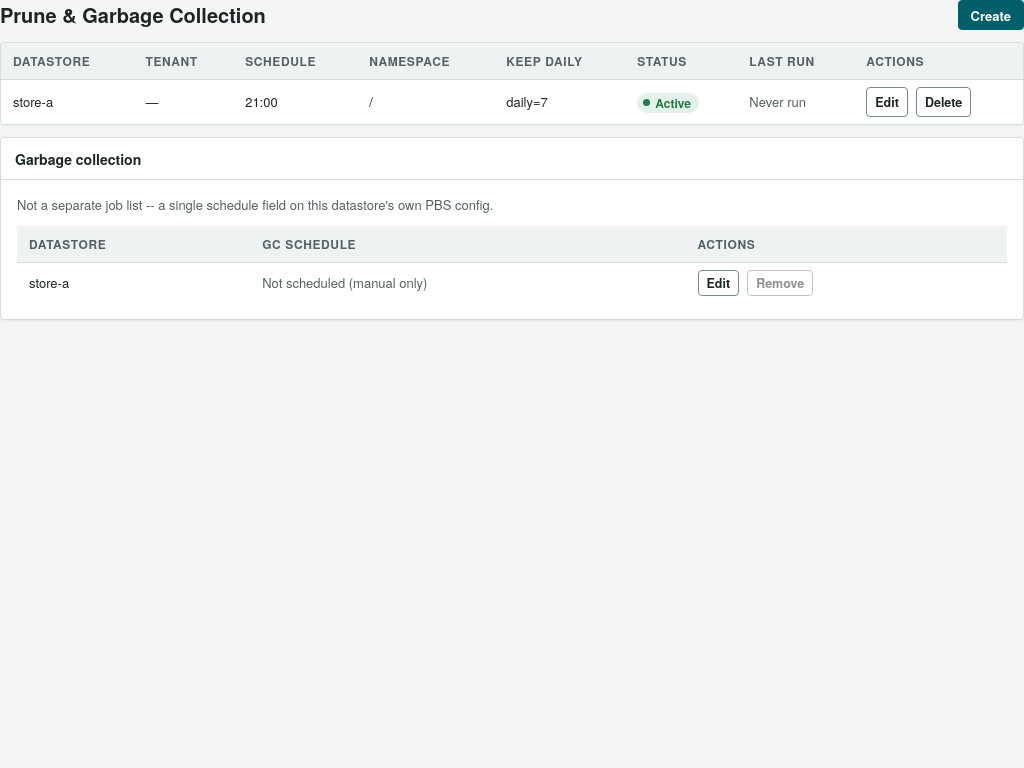
Test: JobsPruneGcPage › shows PBS's error inline when deleting a prune job fails
expect the text "21:00" is shown: met, box [233, 80, 357, 124]
Click the button "Delete" at (944, 102), box [916, 87, 971, 117]
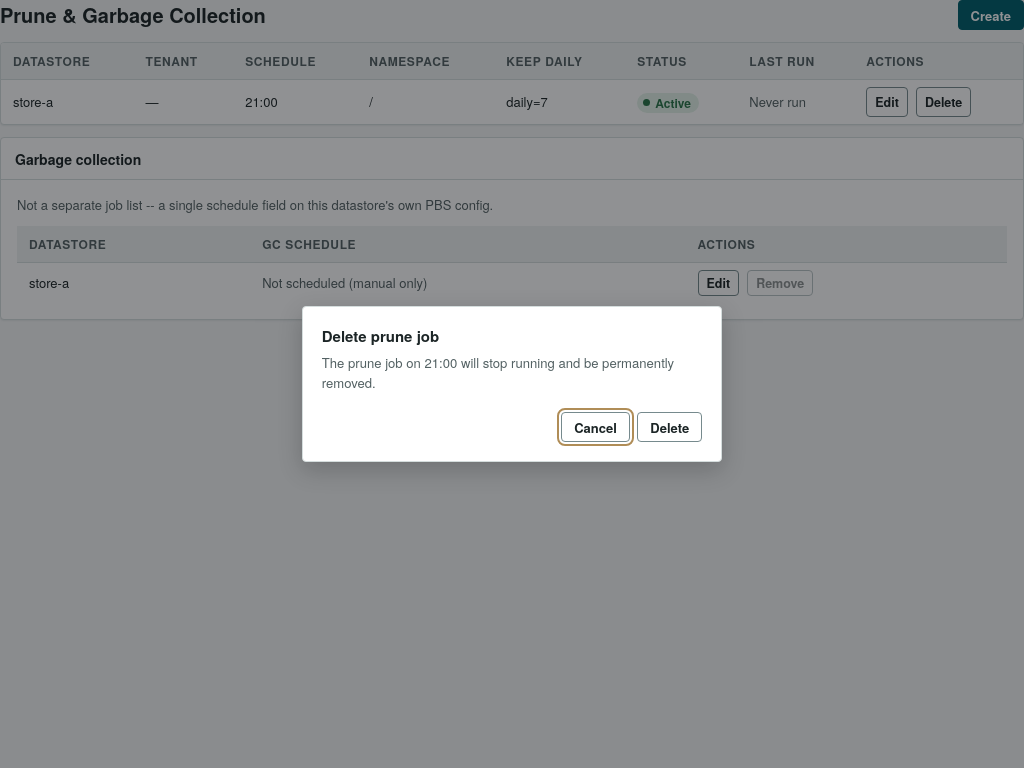
Click the button "Delete" at (670, 427), box [637, 412, 702, 442]
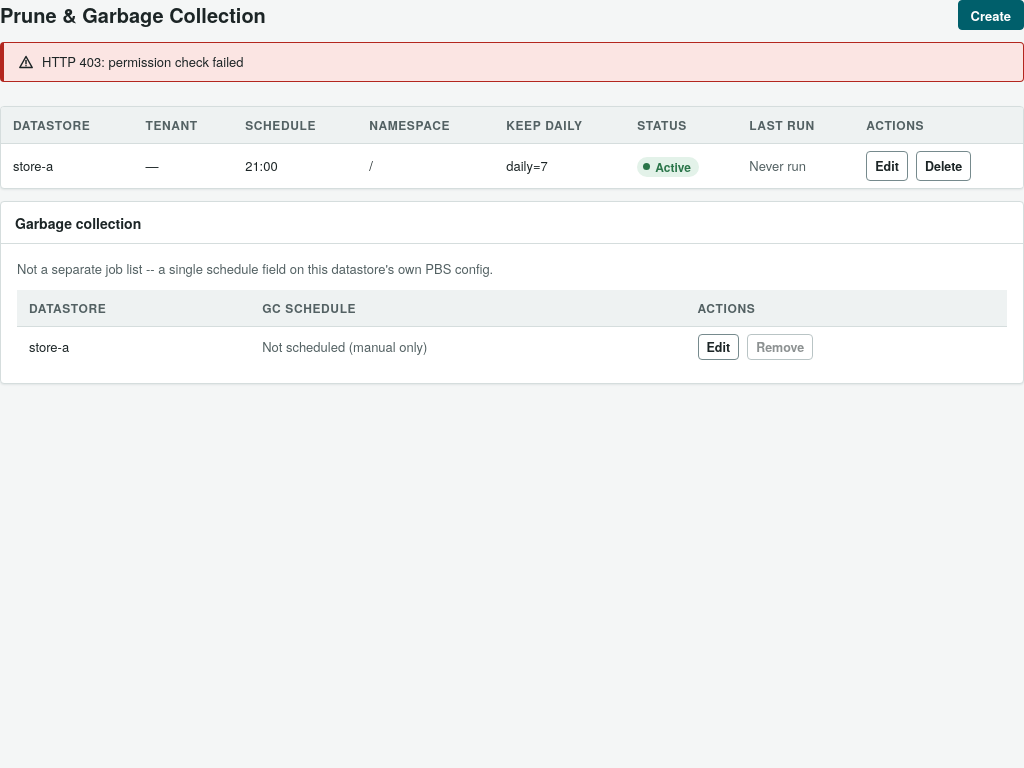
expect the message reads "HTTP 403: permission check failed": met, box [42, 52, 244, 71]
